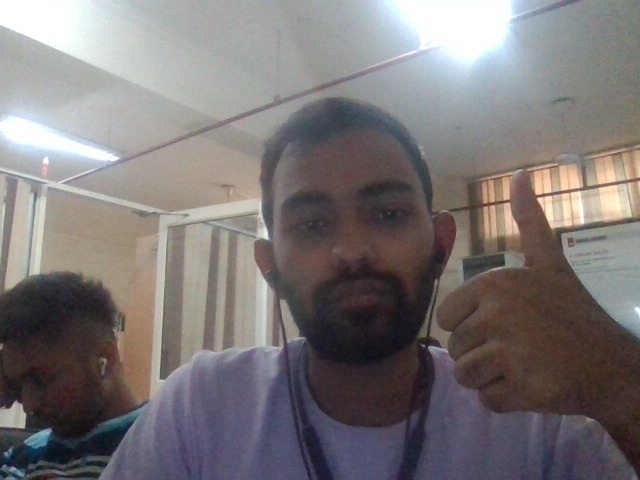Yes: (433, 168, 623, 416)
